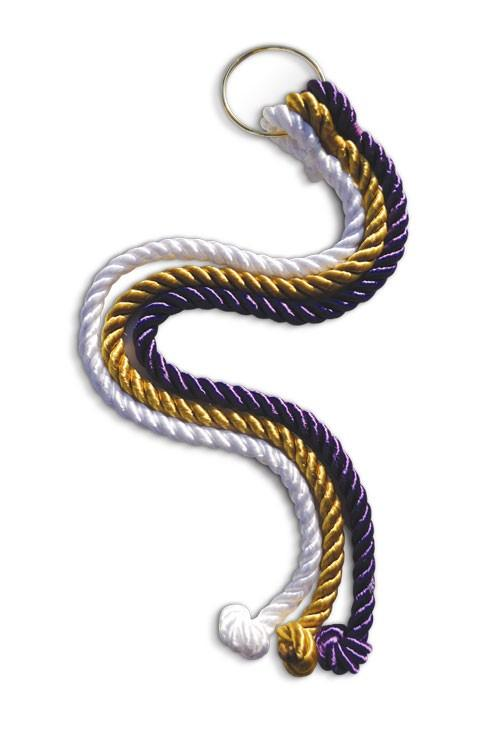Nonrec_Tangler: (52, 48, 402, 692)
